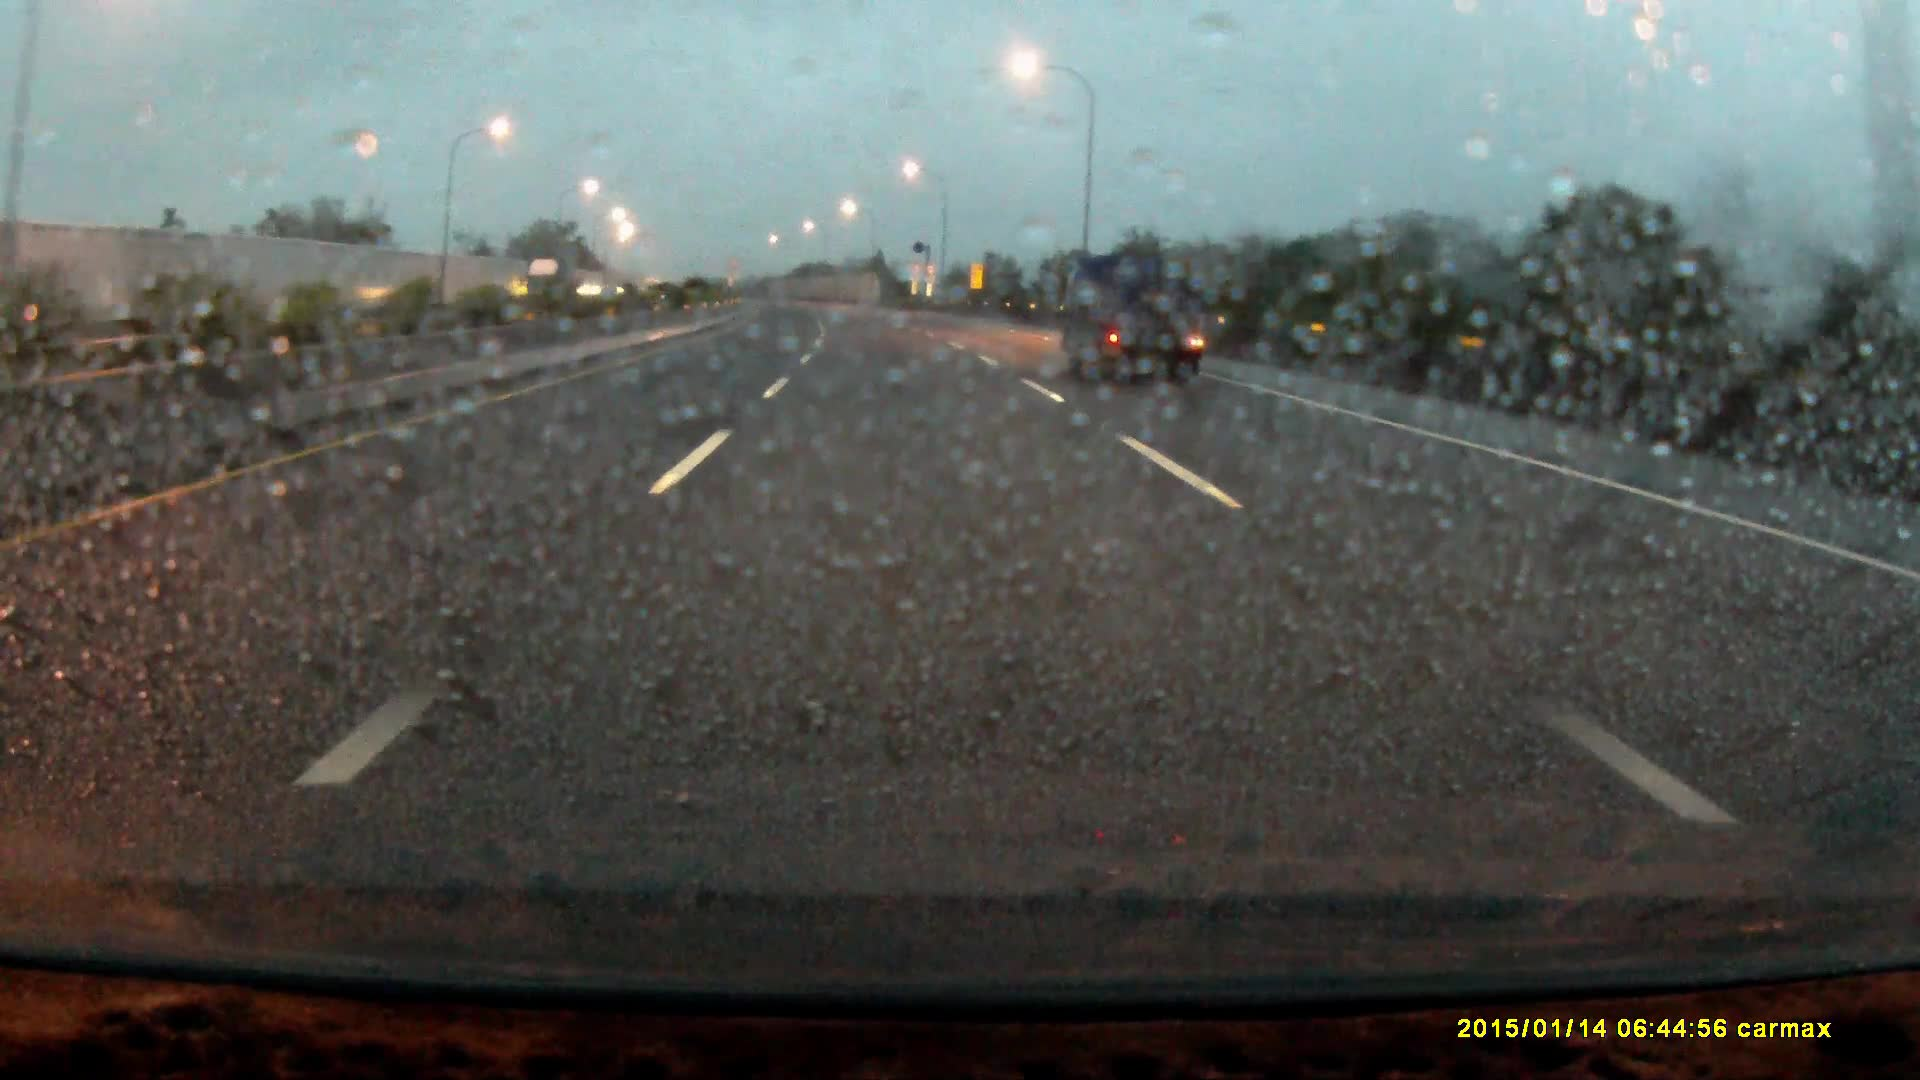vehicle: (1059, 253, 1204, 397), (527, 258, 574, 320)
